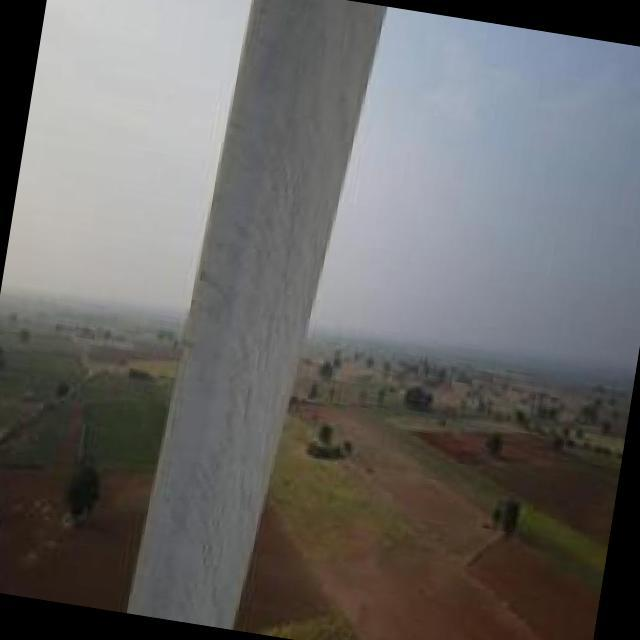Dirt: (138, 8, 358, 628)
